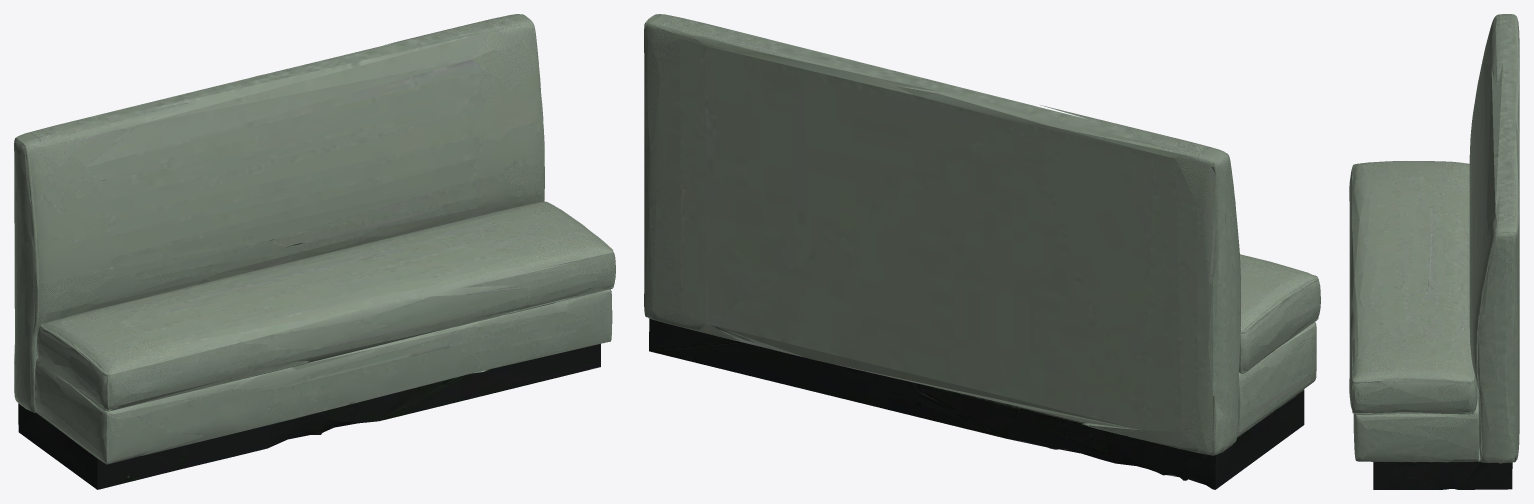
Rendered from green_booth.glb.
3 views of the same model, side by side, from view 1: azimuth 30°, elevation 25°; view 2: azimuth 150°, elevation 25°; view 3: azimuth 270°, elevation 25° (orthographic). The views are drawn at different scales.
Visible parts, largest first — view 1: 0; view 2: 0; view 3: 0.
Part boxes in pixels (<box>): 0: <box>14,14,615,489</box>; 0: <box>644,14,1320,489</box>; 0: <box>1349,14,1519,489</box>.
Size of the model in its own units: 2 by 1.1 by 0.65.
1 material, 1 textured.
